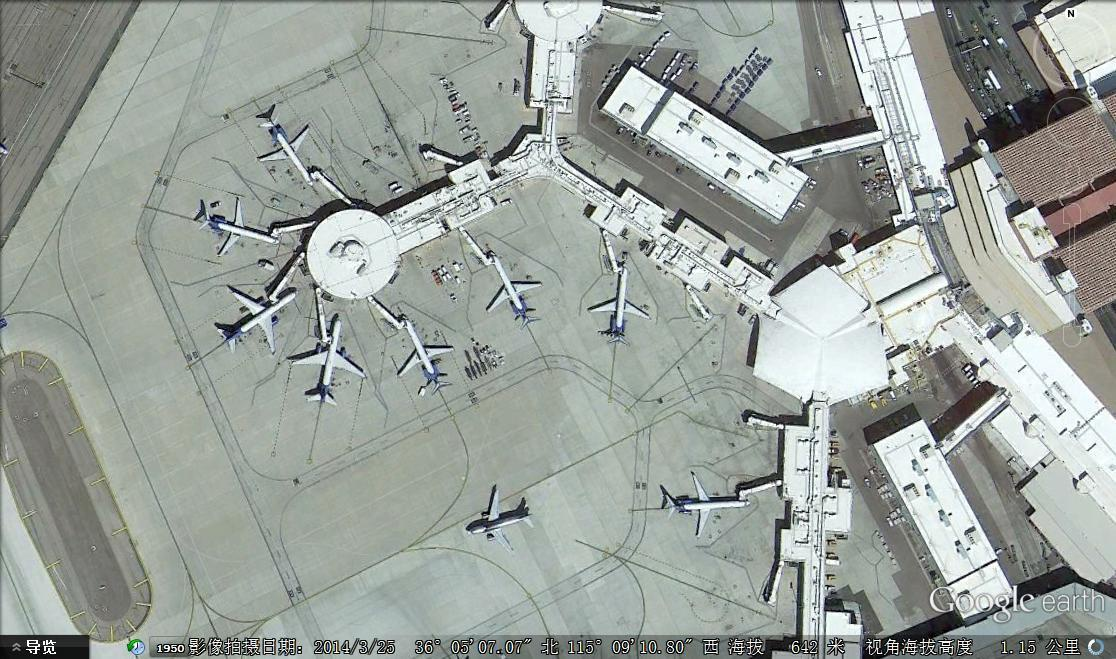aircraft: (657, 469, 760, 547), (288, 314, 367, 413), (213, 281, 301, 356), (459, 482, 541, 560), (582, 263, 654, 344), (193, 197, 282, 262), (258, 107, 319, 193), (481, 247, 544, 326), (394, 316, 457, 395)
